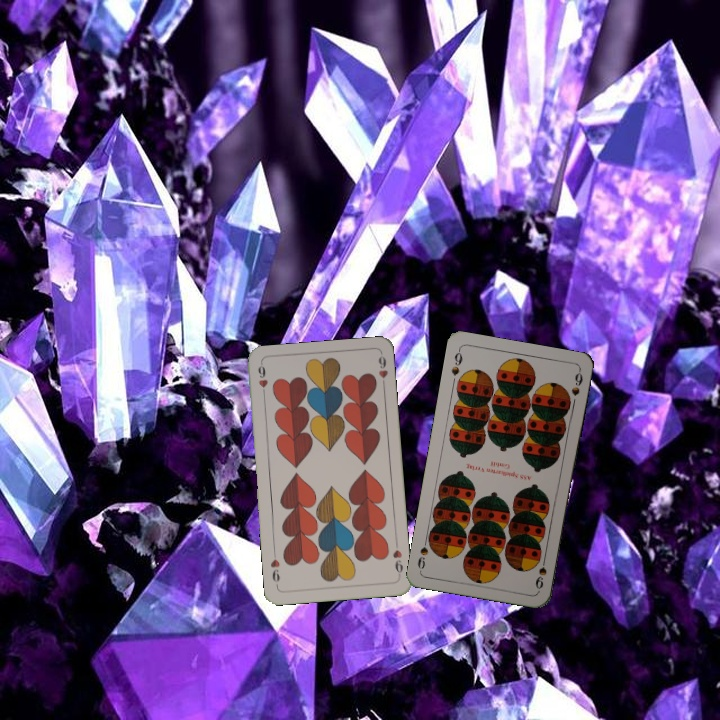H9: (389, 539, 406, 579), (254, 360, 270, 401)
S9: (531, 552, 549, 592), (447, 345, 465, 378)
